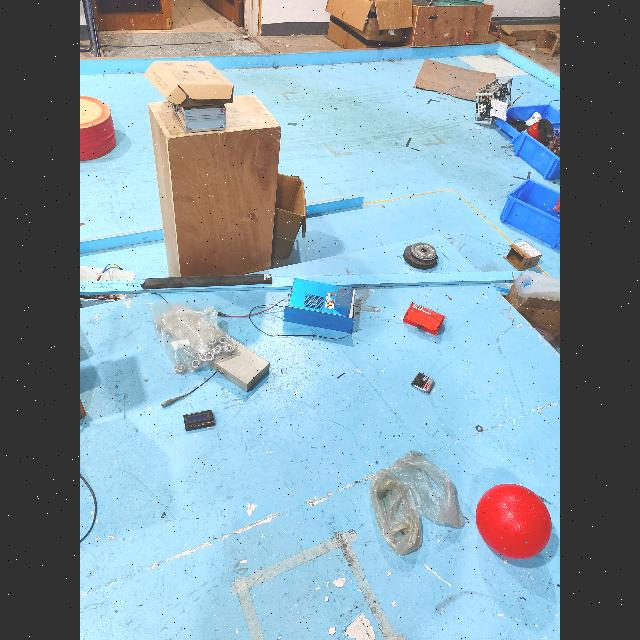R: (473, 482, 552, 560)
